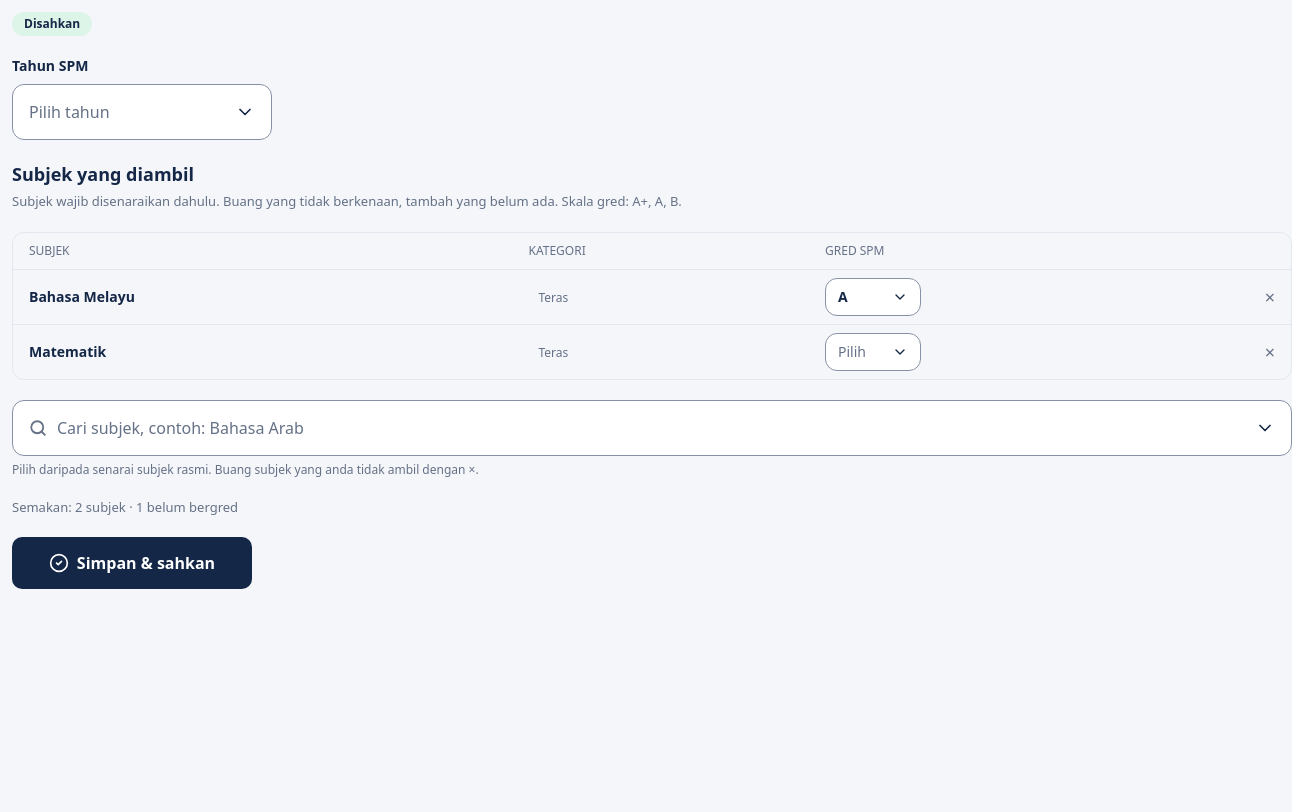
it: SubjectTable › says when what is on screen differs from what is saved
Expected: the text "Disahkan" is shown, x1=12 y1=12 x2=92 y2=36
Click the dropdown named "Gred Matematik". click: (852,351)
box: x1=838 y1=342 x2=866 y2=360
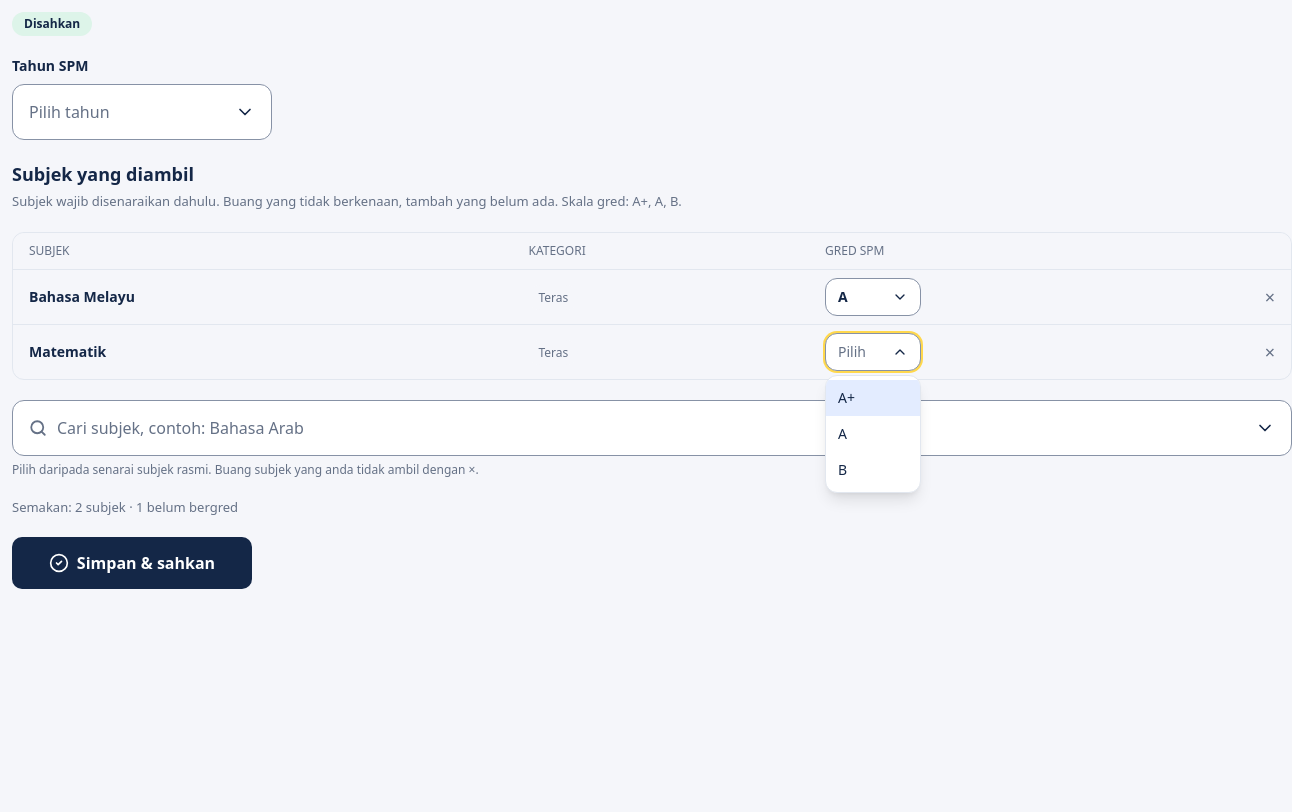
Click the option "B". click: (843,469)
box: x1=838 y1=460 x2=847 y2=478
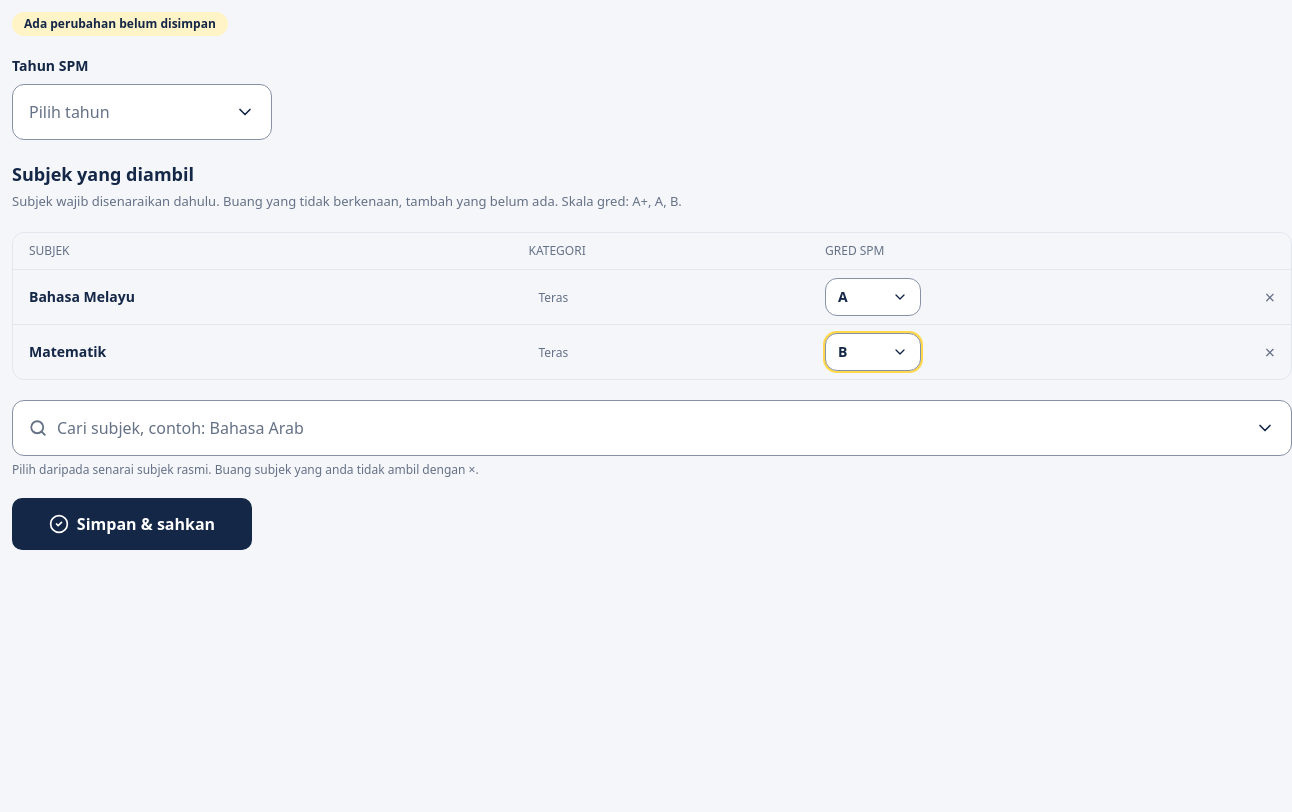
Expected: the text "Ada perubahan belum disimpan" is shown, x1=12 y1=12 x2=228 y2=36
